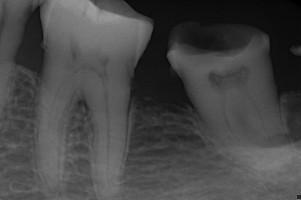Endo-Periodontal Lesion: (78, 99, 88, 113)
